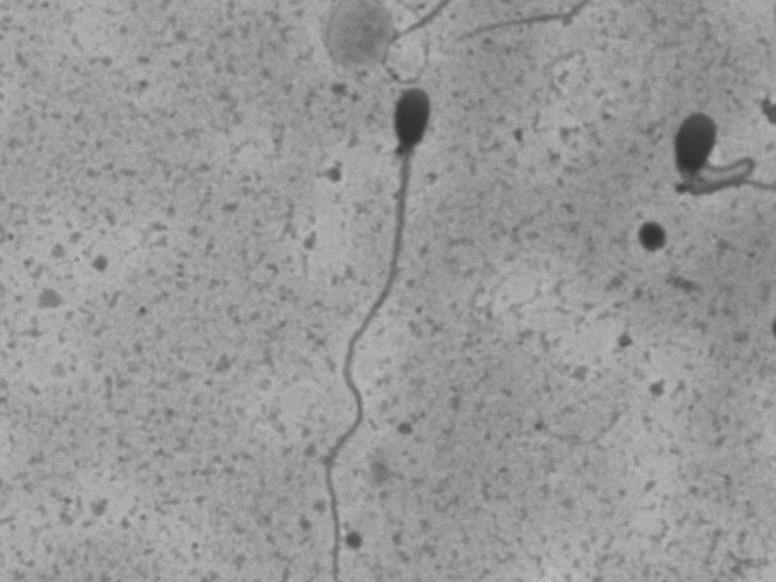Abnormal: (635, 67, 760, 242)
Normal: (298, 80, 468, 561)
